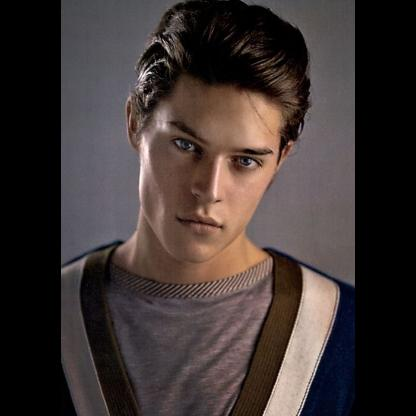Male: (126, 68, 294, 260)
